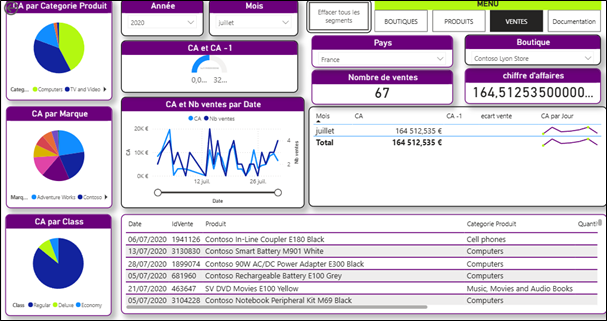

This screenshot's page, from the dashboard's own definition file:
{"tool":"powerbi","page":{"name":"VENTES","canvas":[1280,720],"ordinal":2},"visuals":[{"type":"pieChart","fields":{"Category":["Categorie Produits.Categorie Produit"],"Y":["Sales.CA"]},"box":[10,0,225,215],"z":0},{"type":"pieChart","fields":{"Y":["Sales.CA"],"Category":["Produits.Marque"]},"box":[10,227.5,225,215],"z":1000},{"type":"pieChart","fields":{"Y":["Sales.CA"],"Category":["Produits.Class"]},"box":[7.5,456.2,225,215],"z":2000},{"type":"slicer","title":"Année","fields":{"Values":["DateTable.Année"]},"box":[252.2,0,174.4,78.9],"z":3000},{"type":"slicer","title":"Mois","fields":{"Values":["DateTable.Mois"]},"box":[437.8,0,188.9,78.9],"z":4000},{"type":"tableEx","fields":{"Values":["DateTable.Date","Sales.IdVente","Produits.Produit","Categorie Produits.Categorie Produit","Sales.Quantité de vente","Produits.Prix unitaire","Sales.Remise","Sales.Montant vente après remise","Sales.Montant vente"]},"box":[252.2,455.6,1027.8,211.1],"z":5000},{"type":"actionButton","box":[0,0,100,40],"z":6000},{"type":"lineChart","fields":{"Category":["DateTable.Date"],"Y":["Sales.CA"],"Y2":["Sales.Nb ventes"]},"box":[252.2,207.8,387.8,235.6],"z":7000},{"type":"gauge","fields":{"Y":["Sales.CA"],"TargetValue":["Sales.CA -1"]},"box":[252.2,87.8,374.4,110],"z":8000},{"type":"tableEx","fields":{"Values":["DateTable.Mois","Sales.CA","Sales.CA -1","Sales.ecart vente","SparklineData(Sales.CA_[DateTable.Jour])"]},"box":[648.9,227.8,631.1,212.2],"z":9000},{"type":"card","title":"Nombre de ventes","fields":{"Values":["Sales.Nb ventes"]},"box":[655.6,150,298.9,73.3],"z":10000},{"type":"card","title":"chiffre d''affaires","fields":{"Values":["Sales.CA"]},"box":[980,146.7,287.8,75.6],"z":11000},{"type":"slicer","title":"Pays","fields":{"Values":["Geographie.Pays"]},"box":[655.6,77.8,298.9,67.8],"z":12000},{"type":"slicer","title":"Boutique","fields":{"Values":["Boutiques.Boutique"]},"box":[980,76.7,287.8,64.4],"z":13000},{"type":"actionButton","box":[644.4,1.1,137.8,71.1],"z":14000},{"type":"pageNavigator","title":"MENU","box":[788.9,0,478.9,71.1],"z":15000}]}

Visuals, with their boxes on the page's 1280x720 design canvas (x1, y1, x2, y2). These are canvas units, not pixel positions in the 607x321 screenshot, which may show the page scaled, cropped or inside an application window:
pieChart - Categorie Produits.Categorie Produit x Sales.CA: 10 0 235 215
pieChart - Sales.CA x Produits.Marque: 10 228 235 442
pieChart - Sales.CA x Produits.Class: 8 456 232 671
"Année" slicer: 252 0 427 79
"Mois" slicer: 438 0 627 79
tableEx - DateTable.Date x Sales.IdVente: 252 456 1280 667
actionButton: 0 0 100 40
lineChart - DateTable.Date x Sales.CA: 252 208 640 443
gauge - Sales.CA x Sales.CA -1: 252 88 627 198
tableEx - DateTable.Mois x Sales.CA: 649 228 1280 440
"Nombre de ventes" card: 656 150 954 223
"chiffre d''affaires" card: 980 147 1268 222
"Pays" slicer: 656 78 954 146
"Boutique" slicer: 980 77 1268 141
actionButton: 644 1 782 72
"MENU" pageNavigator: 789 0 1268 71
